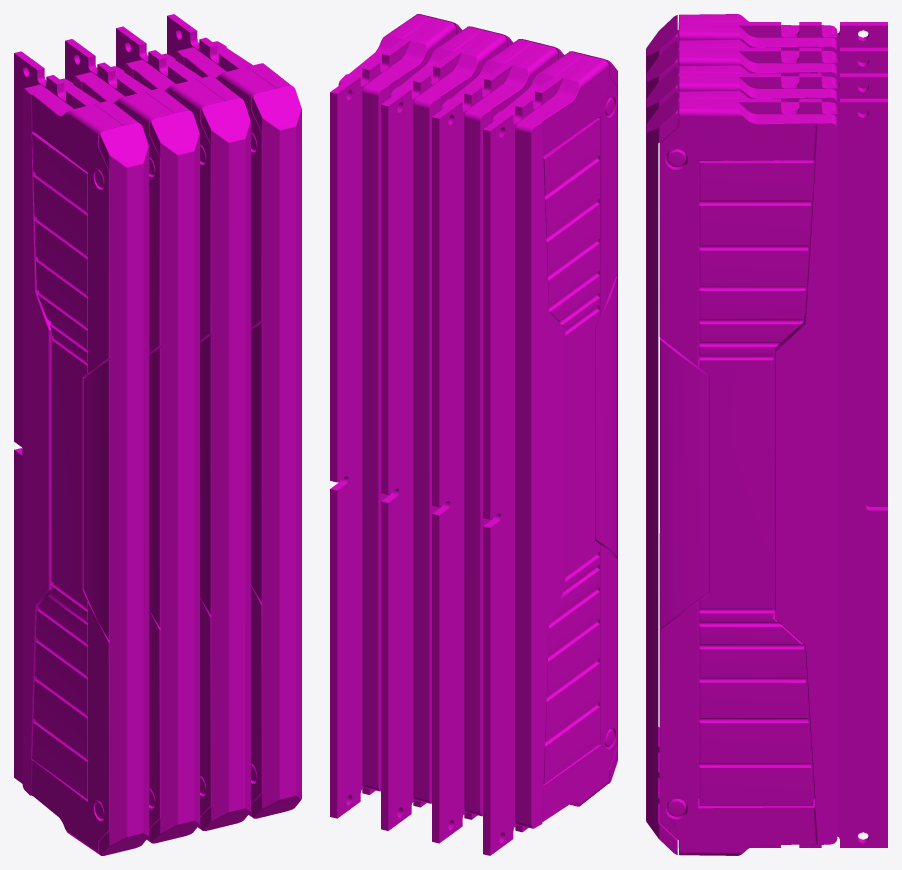
File: 1783942505350_RAM.glb
3 views of the same model, side by side, from view 1: azimuth 30°, elevation 25°; view 2: azimuth 150°, elevation 25°; view 3: azimuth 270°, elevation 25° (orthographic). The views are drawn at different scales.
Visible parts, largest first — view 1: RAM_4, RAM_1, RAM_3, RAM_2; view 2: RAM_4, RAM_1, RAM_3, RAM_2; view 3: RAM_1, RAM_2, RAM_3, RAM_4.
Boxes of the visible parts, box(x1,y1,x2,y2) form: RAM_4: box(14, 51, 148, 855); RAM_1: box(167, 14, 301, 818); RAM_3: box(65, 39, 199, 843); RAM_2: box(116, 26, 250, 830); RAM_4: box(483, 51, 617, 855); RAM_1: box(330, 14, 462, 818); RAM_3: box(432, 39, 563, 843); RAM_2: box(381, 26, 513, 830); RAM_1: box(646, 90, 887, 855); RAM_2: box(646, 65, 887, 803); RAM_3: box(646, 39, 887, 778); RAM_4: box(646, 14, 887, 752).
Size of the model in its own units: 0.9667 by 3.34 by 0.98.
